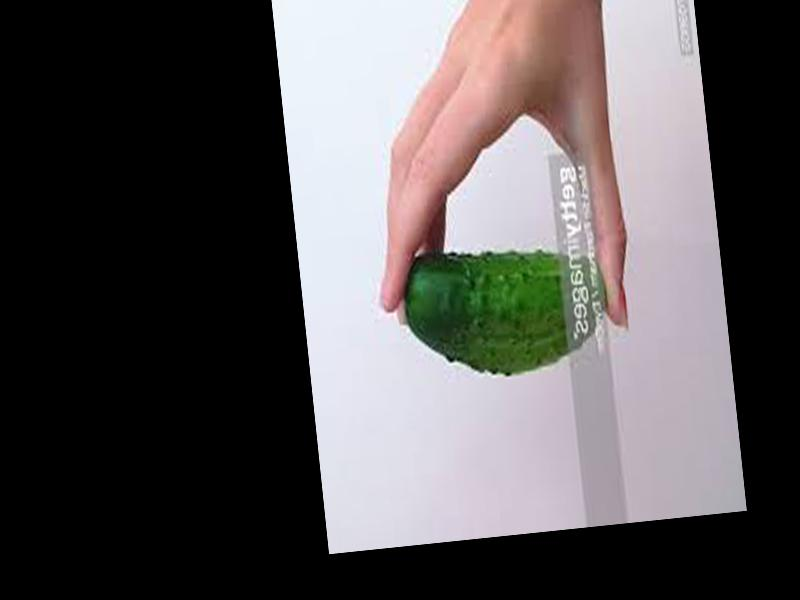Cucumber: (399, 237, 614, 386)
